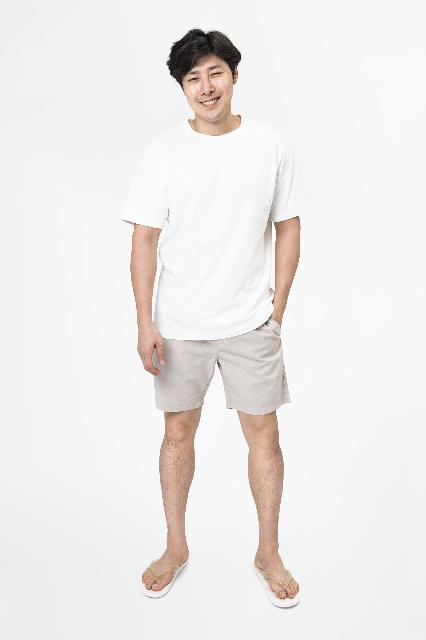Person: (116, 25, 308, 608)
